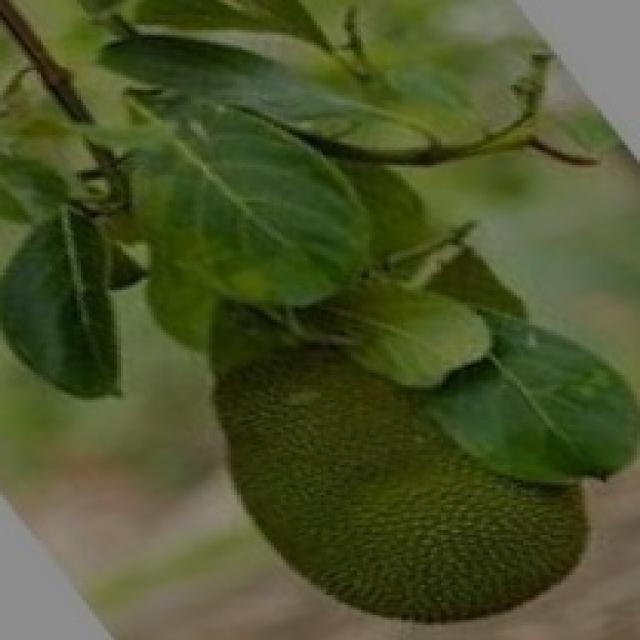Fruit: (203, 300, 615, 640)
